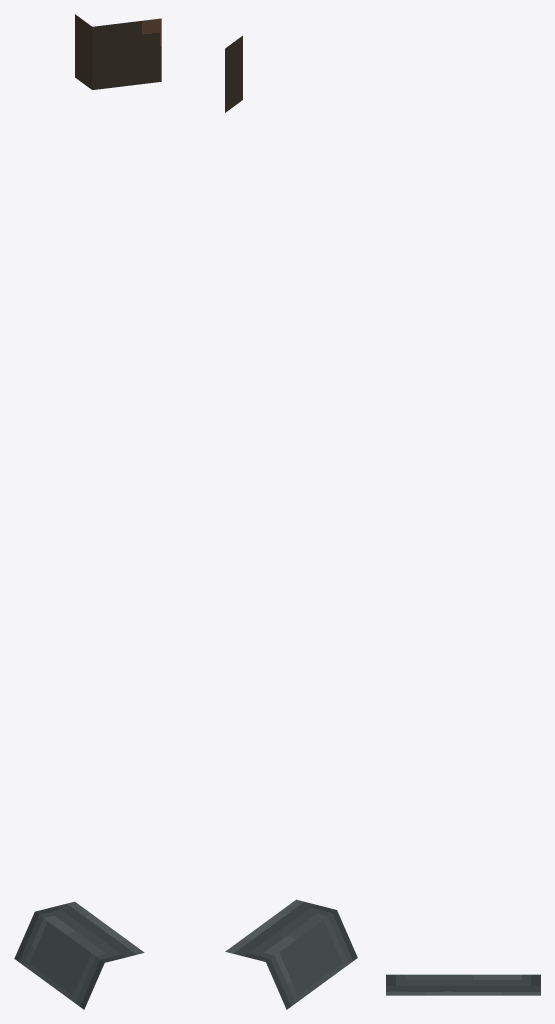
3 renders of one model, left to right at view 1: azimuth 30°, elevation 25°; view 2: azimuth 150°, elevation 25°; view 3: azimuth 270°, elevation 25°, orthographic. The views are drawn at different scales.
Bounding box in the file's own units: 1 × 7.33 × 1.
Materials: 2 (2 with a texture image).
